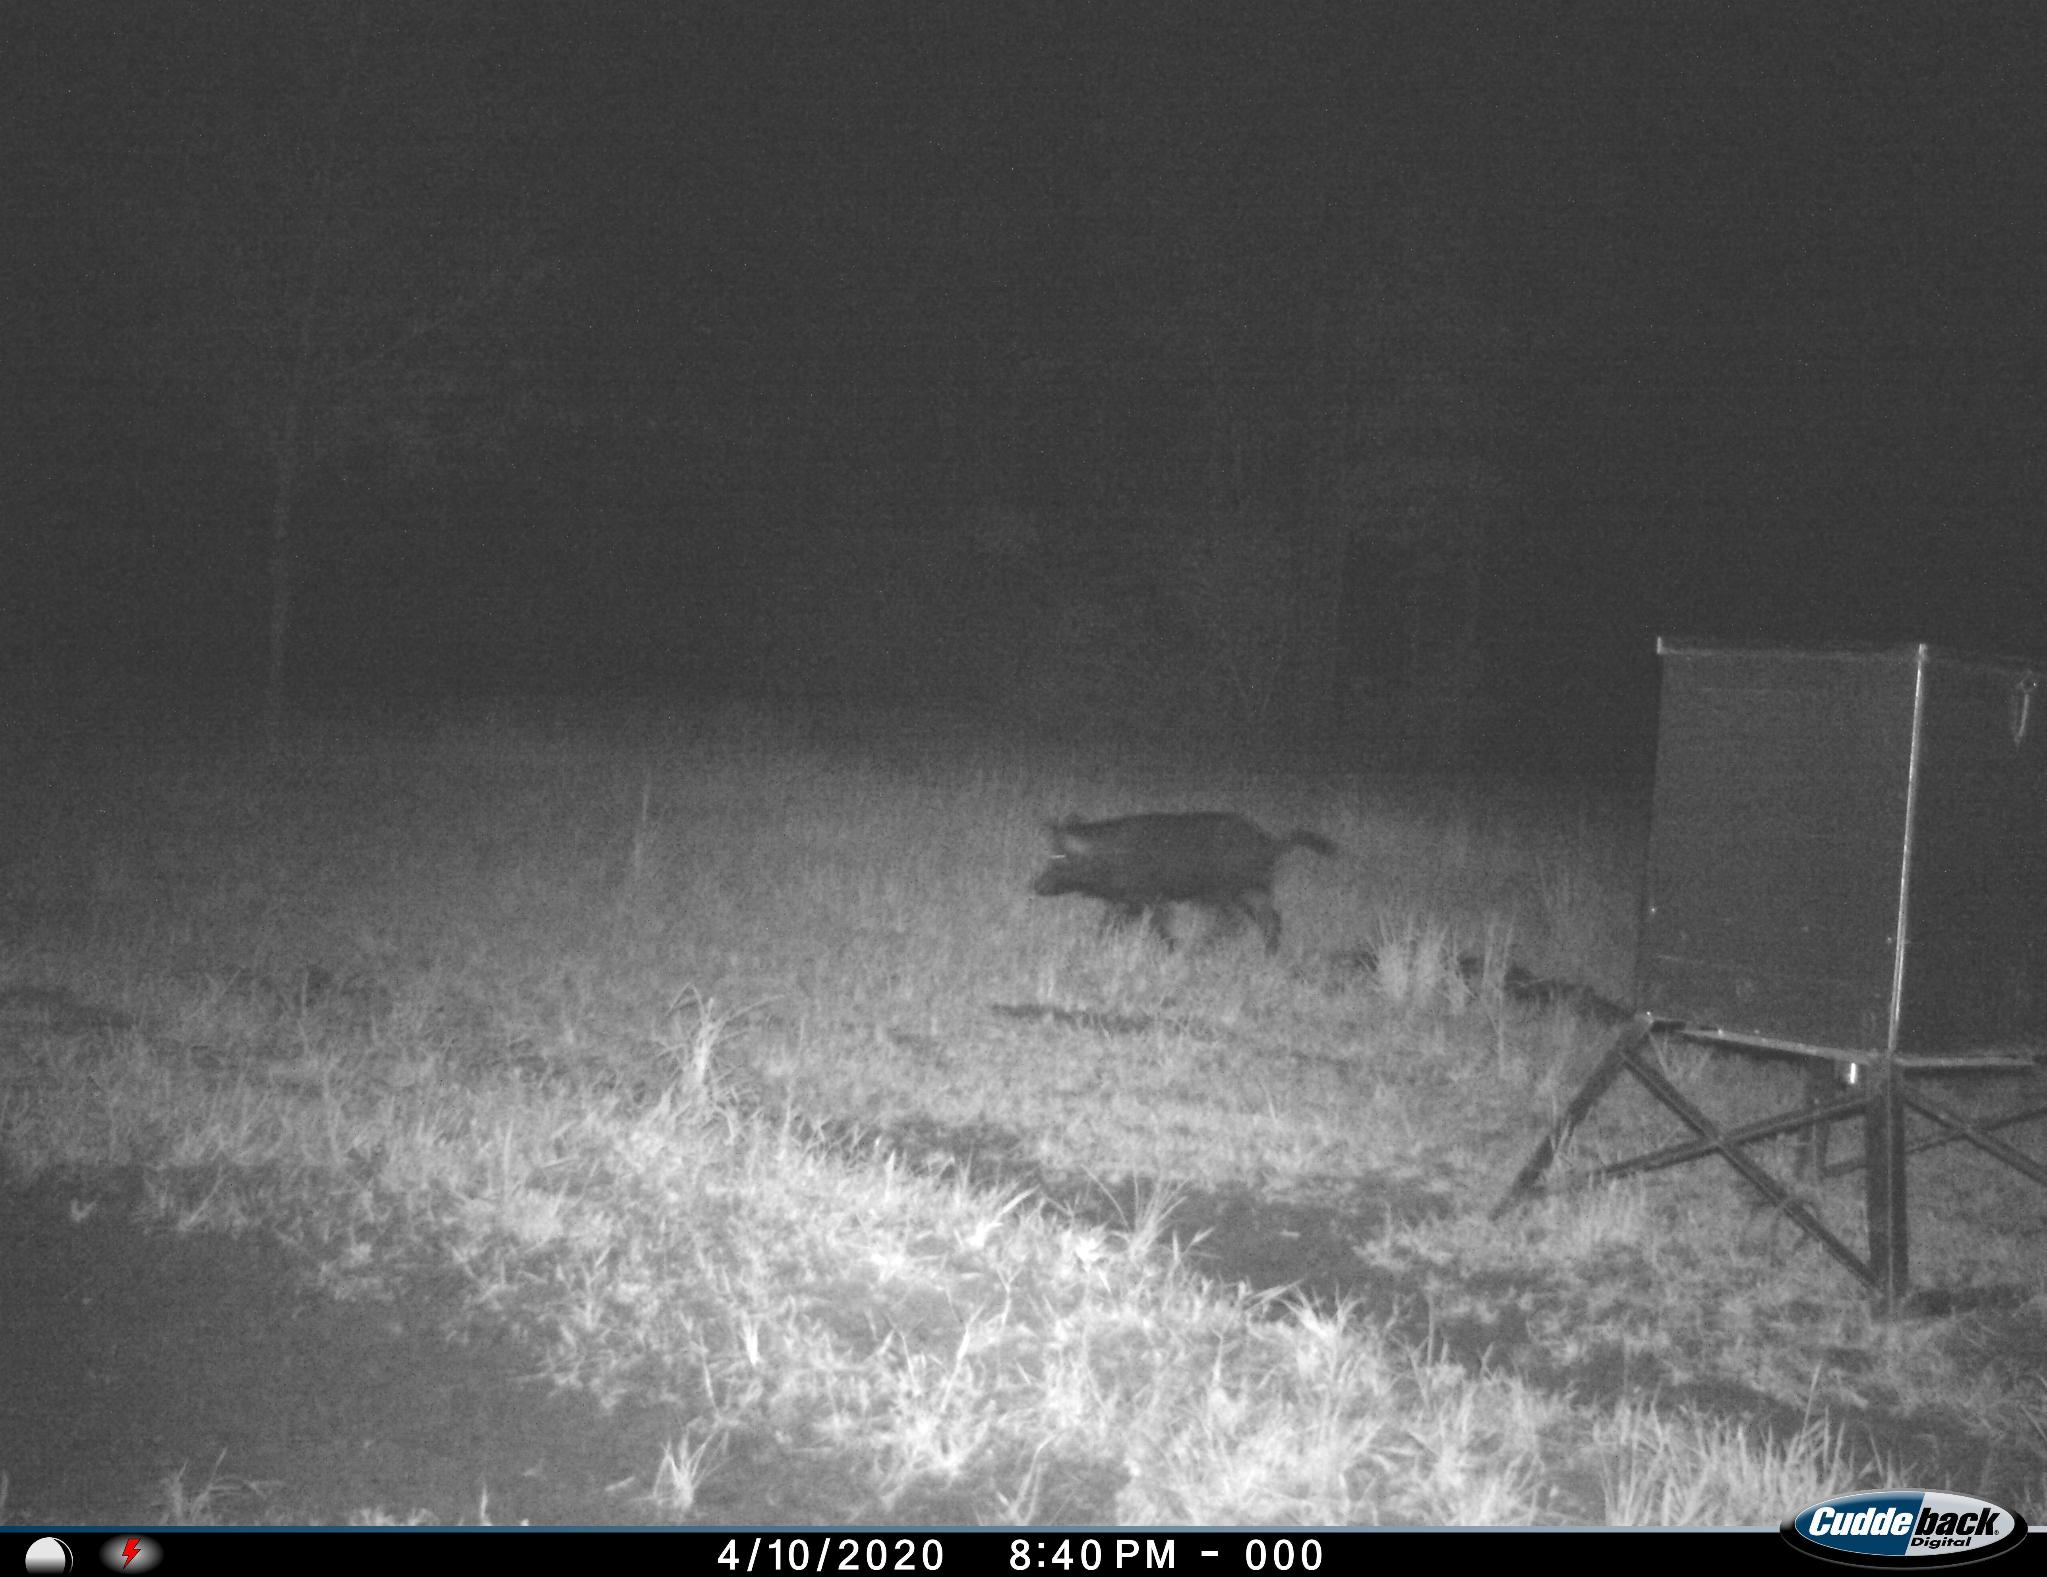Hog: (1010, 787, 1348, 989)
